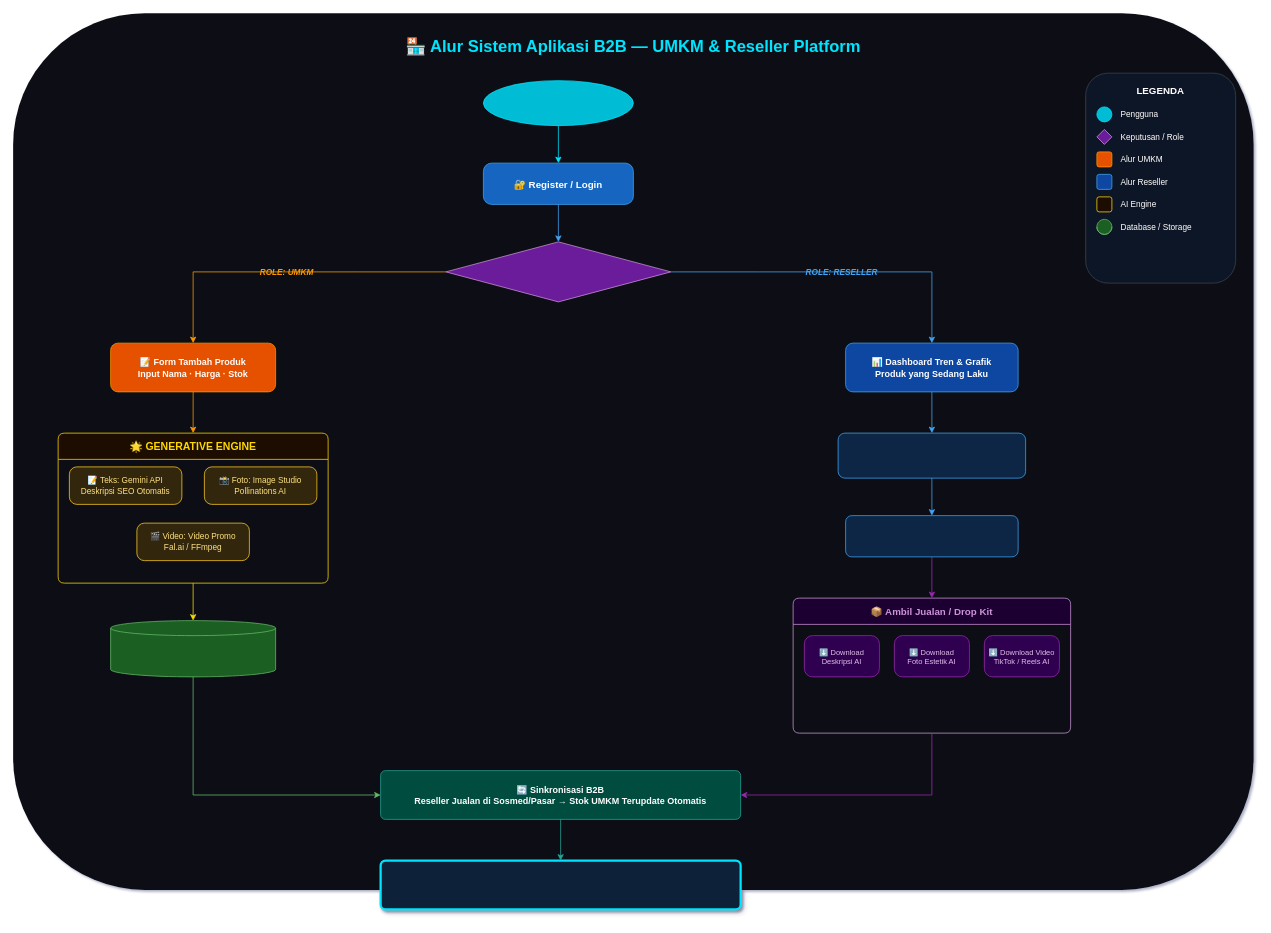
Image size: 1271x933. Some labels were removed from this diagram. The centre of each missing label's shape, as x and y in pixels:
"Pengecekan Peran (Role)" goes at pixel 558 272.
"👤 Pengguna / Visitor" goes at pixel 559 104.
"💹 Analisis Margin Keuntungan" goes at pixel 932 537.
"💾 Katalog Produk Teroptimasi Tersimpan di Database" goes at pixel 193 649.
"📊 Interactive Dashboard Grafik Penjualan & Analitik Real-time" goes at pixel 561 885.
"🔍 Cari Produk & Supplier Filter berdasarkan Wilayah / Kategori" goes at pixel 932 456.
